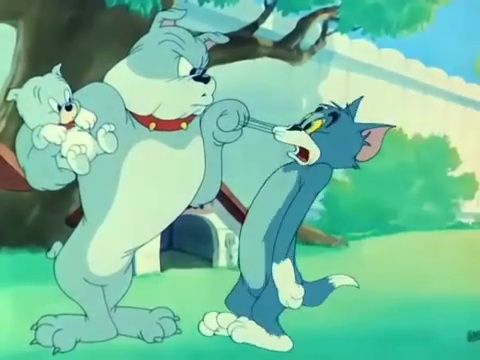spike: (104, 4, 229, 133)
tom: (272, 91, 402, 177)
